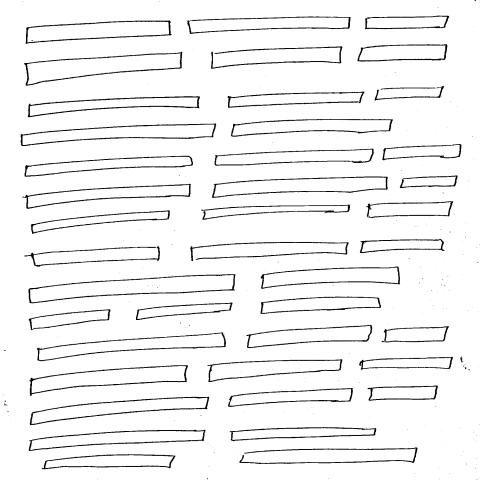Textbox: (28, 275, 238, 306), (23, 53, 186, 88), (37, 334, 228, 363), (30, 397, 211, 427), (29, 364, 189, 396), (20, 123, 217, 148), (25, 184, 193, 211), (211, 176, 390, 200), (26, 96, 201, 120), (28, 430, 207, 452), (23, 155, 194, 178), (25, 20, 173, 45), (30, 210, 172, 235), (190, 241, 350, 263), (261, 266, 404, 290), (210, 46, 343, 71), (208, 360, 343, 384), (239, 447, 419, 465), (229, 119, 394, 138), (214, 148, 376, 167), (247, 326, 373, 350), (188, 17, 354, 35), (29, 247, 162, 268), (228, 388, 354, 408), (260, 296, 383, 316), (202, 205, 352, 221), (227, 92, 365, 108), (230, 427, 377, 442), (41, 455, 177, 471), (135, 302, 233, 322), (29, 309, 112, 332), (356, 45, 449, 63), (366, 201, 454, 220), (358, 238, 448, 255), (382, 144, 463, 162), (363, 16, 452, 32), (360, 357, 453, 371), (374, 86, 447, 102), (368, 386, 439, 402), (382, 328, 449, 344), (399, 176, 460, 190)
